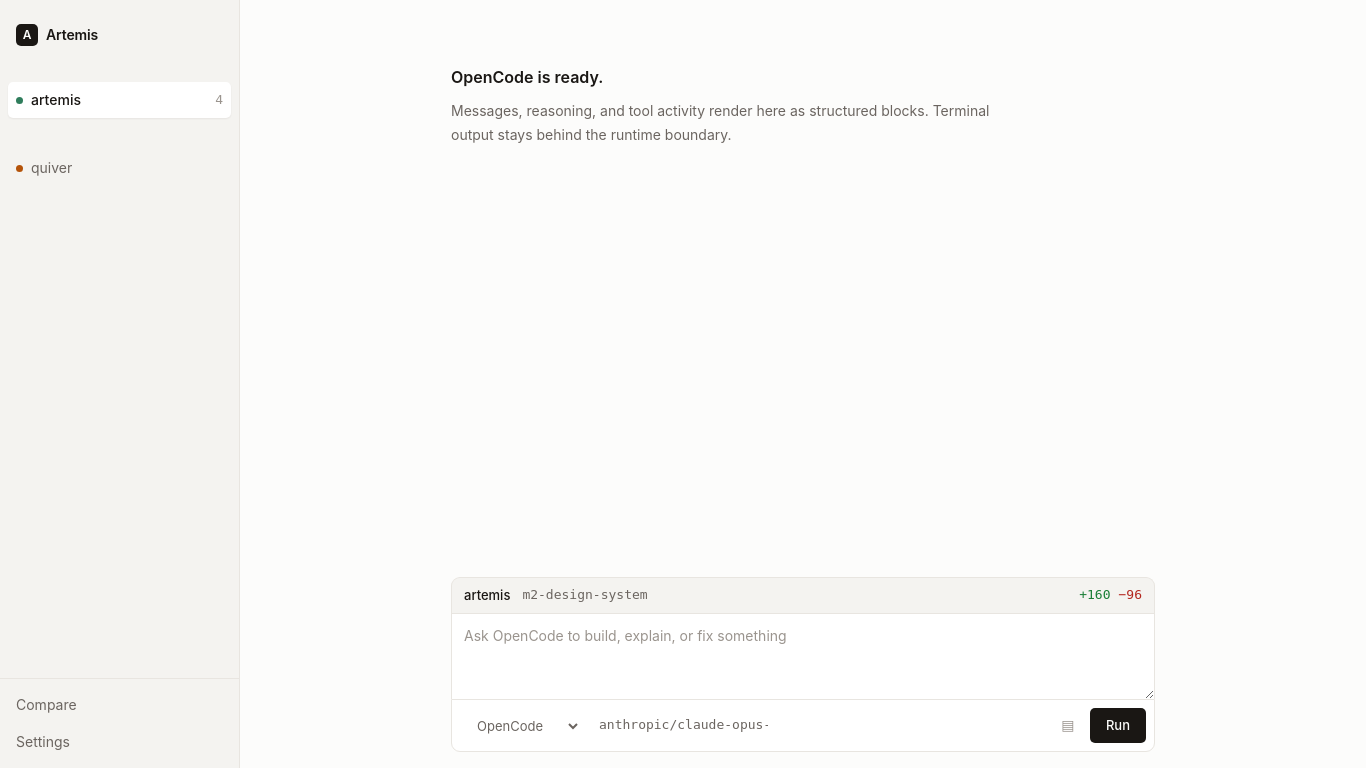
Test case: the inline diff › closes again
Expected: the button "artemis 4" is shown, 8,82 -> 231,118
In the text box named "prompt": [803, 657] box 452,614 -> 1154,699, type "go"
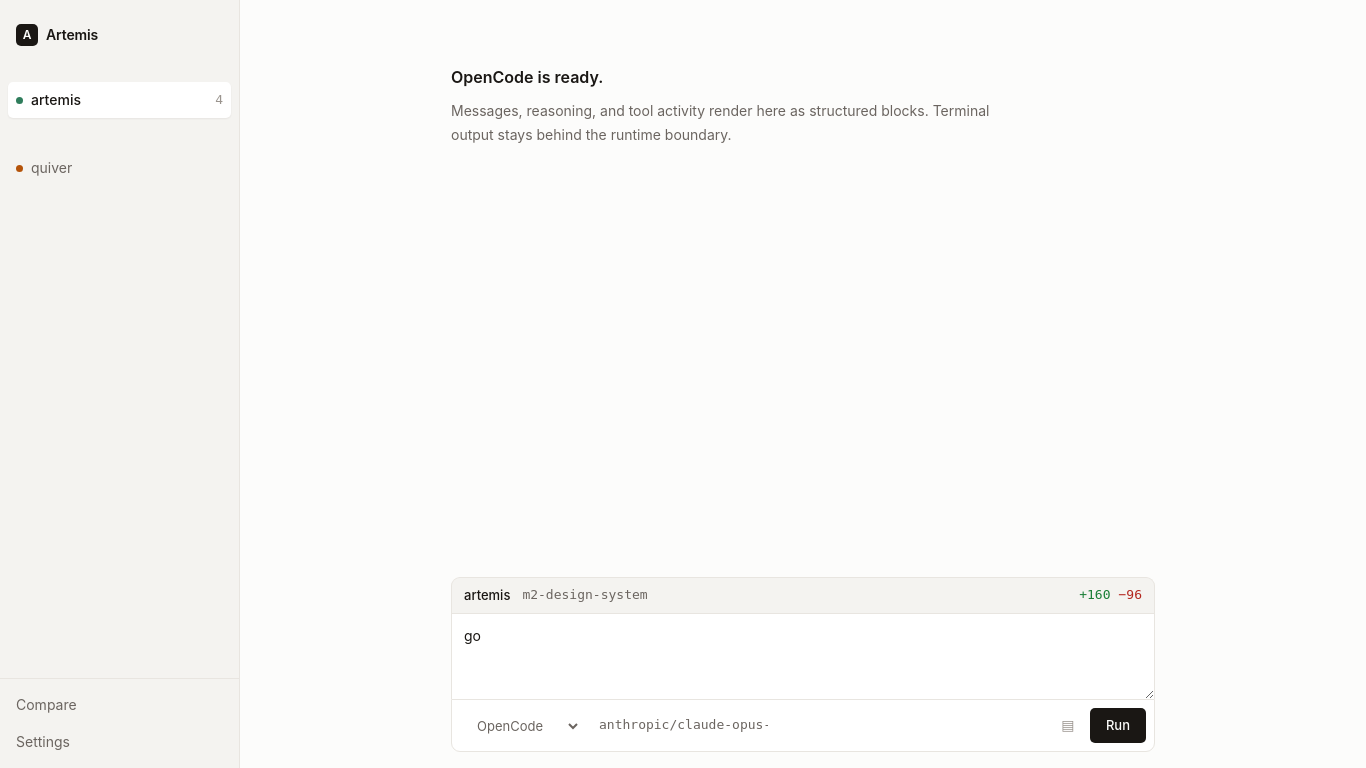
Click the button "Run": [1118, 726] box 1090,708 -> 1146,743
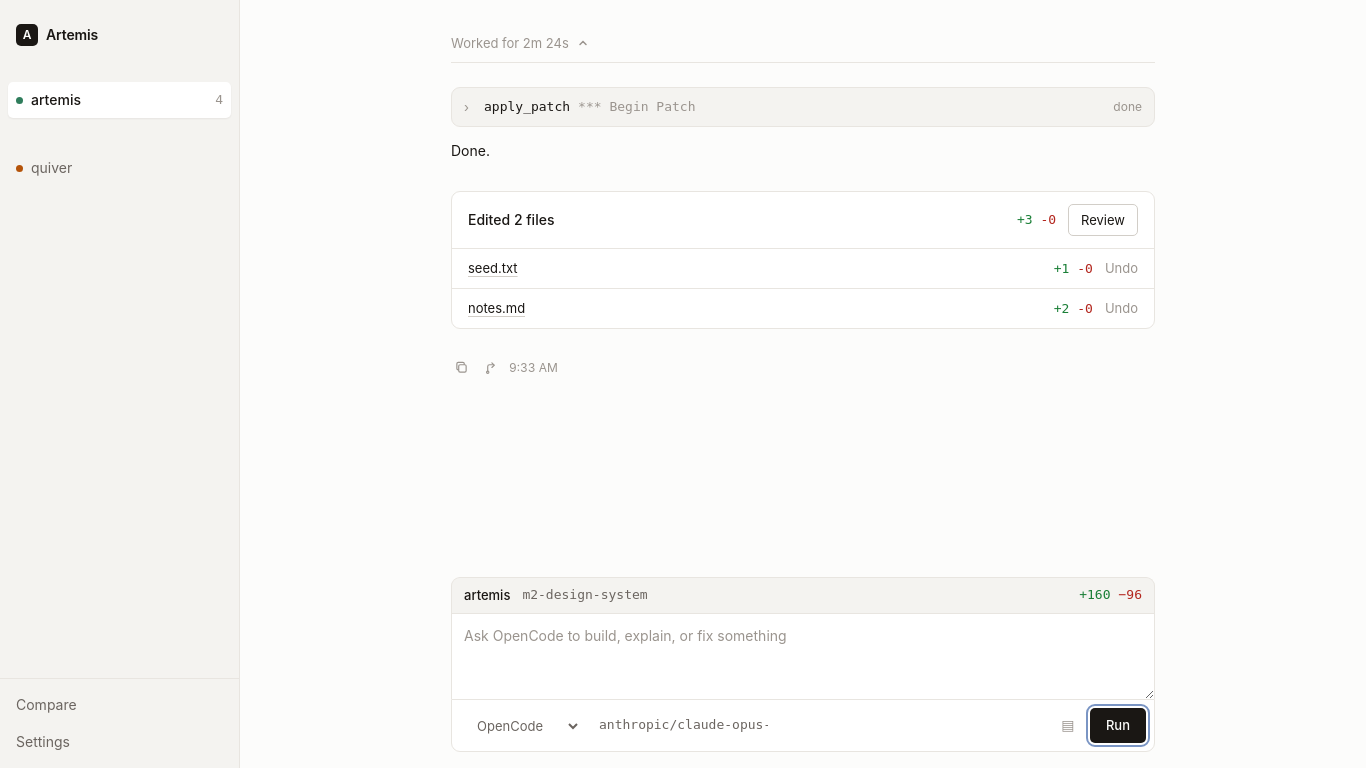
Click the button "seed.txt": [493, 268] box 468,257 -> 518,279
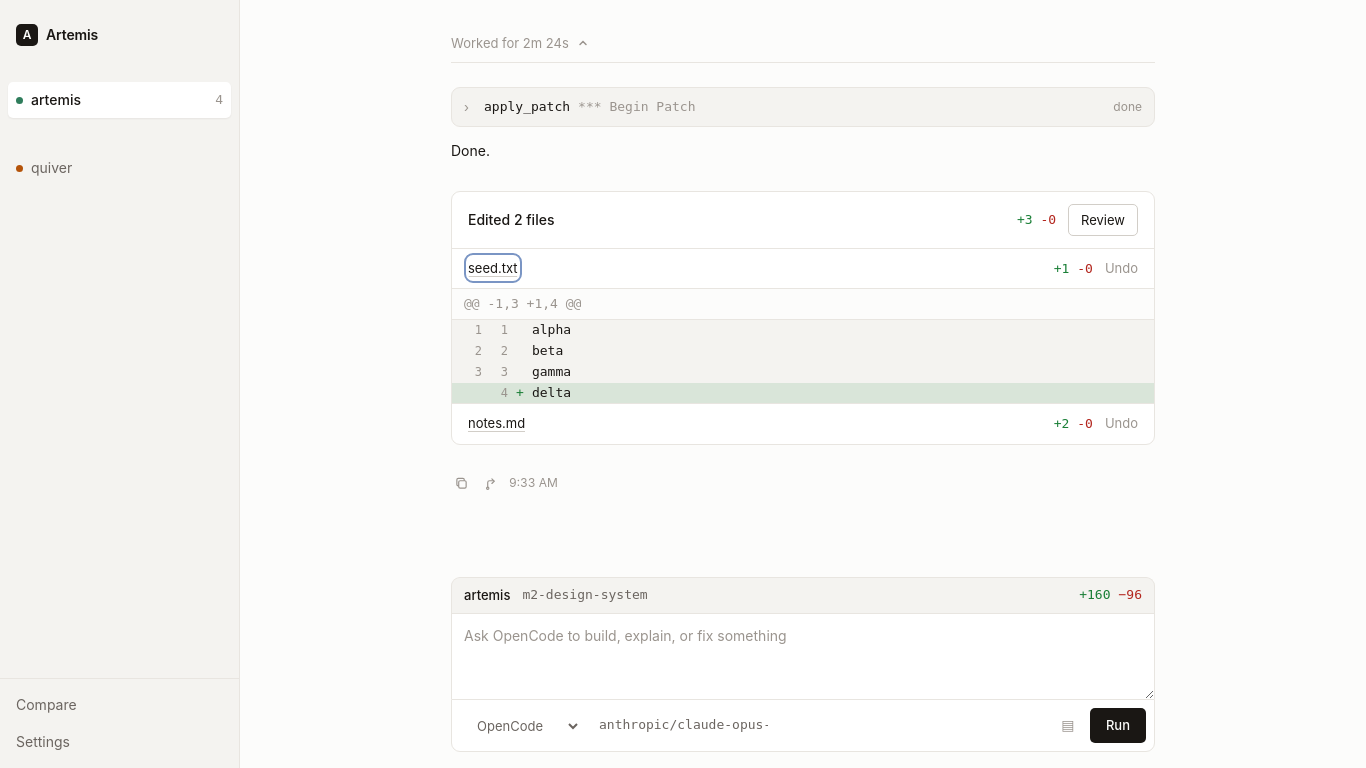
Click the button "seed.txt": [493, 268] box 468,257 -> 518,279
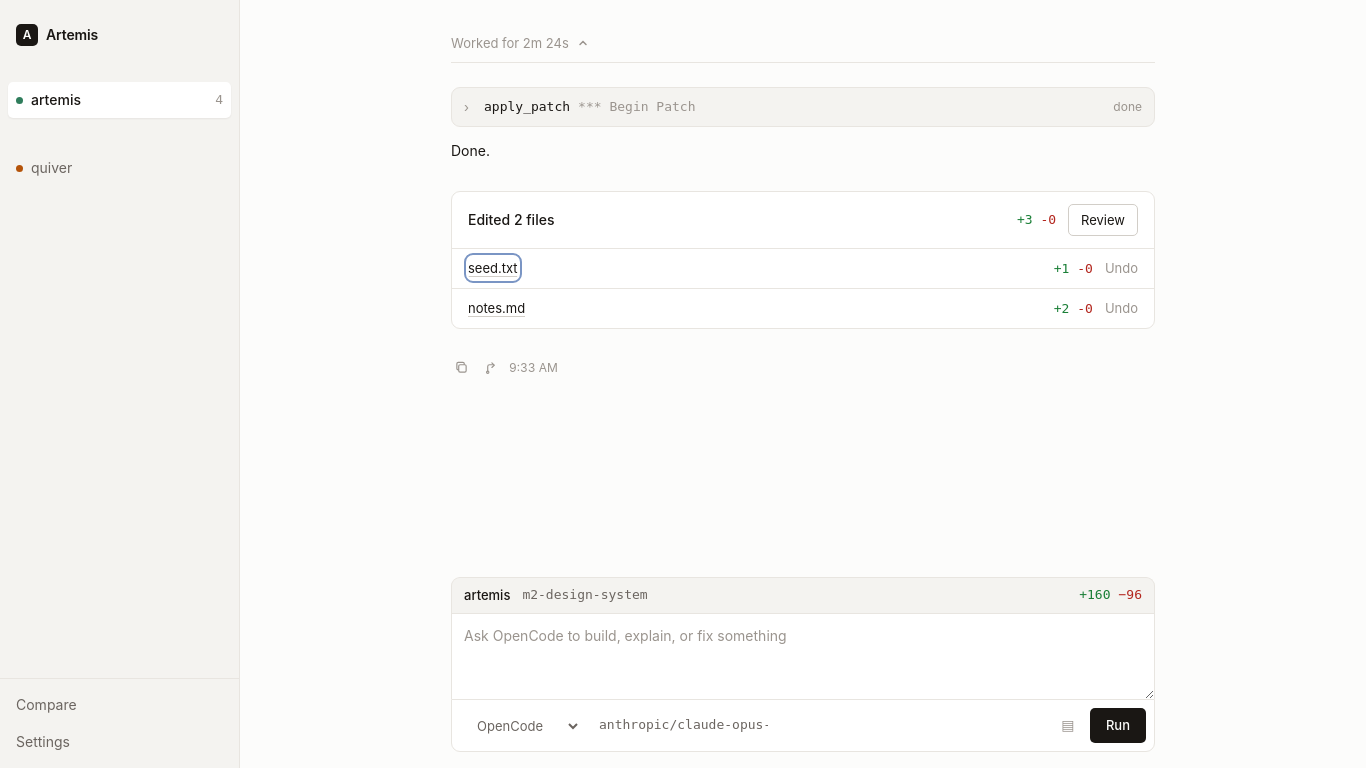
Now the element with test id "diff-view" is gone
